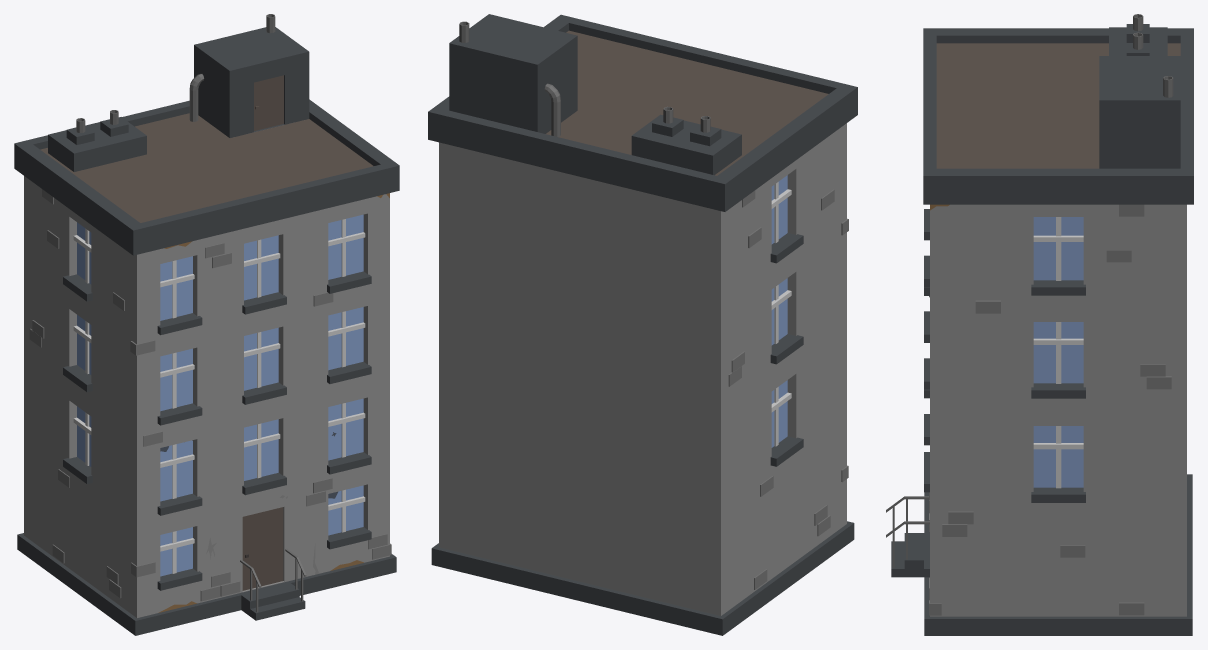
Rendered from House_03.glb.
The picture shows the model from 3 angles, left to right: view 1: azimuth 30°, elevation 25°; view 2: azimuth 150°, elevation 25°; view 3: azimuth 270°, elevation 25°; orthographic projection. The views are drawn at different scales.
Parts seen in each view (by area): view 1: House_03; view 2: House_03; view 3: House_03.
Boxes of the visible parts, box(x1,y1,x2,y2) form: House_03: box(14, 14, 399, 635); House_03: box(428, 14, 857, 635); House_03: box(886, 14, 1193, 635).
Size of the model in its own units: 7.14 by 12.35 by 6.29.
Materials: 1 (1 with a texture image).
